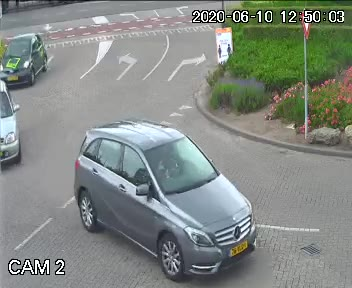car: (71, 120, 254, 274), (0, 28, 54, 87), (0, 78, 29, 169)
